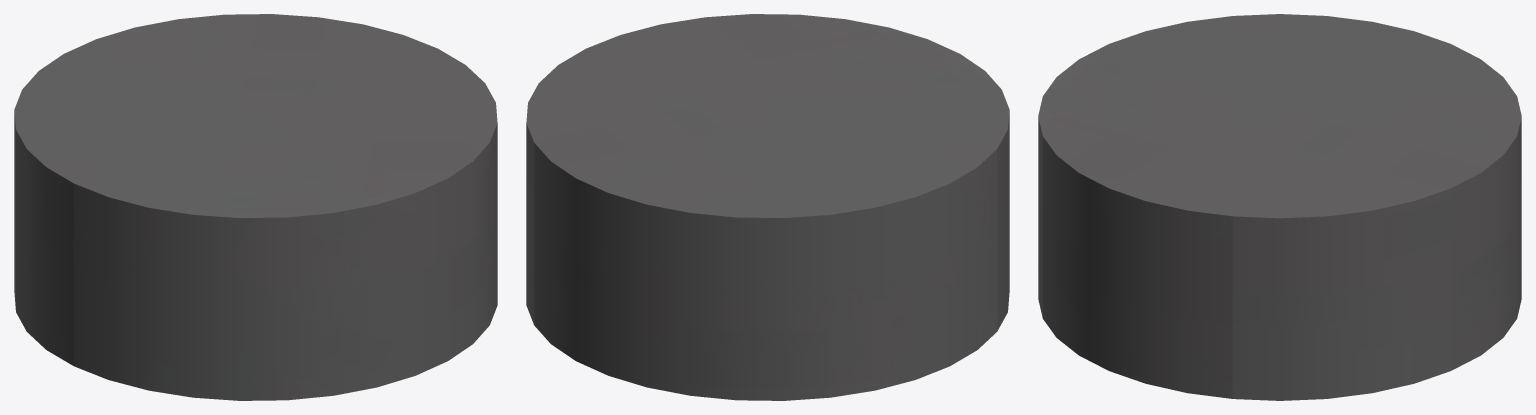
File: base__roller_axle_stub_1.glb
The picture shows the model from 3 angles, left to right: view 1: azimuth 30°, elevation 25°; view 2: azimuth 150°, elevation 25°; view 3: azimuth 270°, elevation 25°; orthographic projection.
Visible parts, largest first — view 1: world; view 2: world; view 3: world.
Part boxes in pixels (left/top/right/bottom): world: left=14, top=14, right=497, bottom=400; world: left=526, top=14, right=1009, bottom=400; world: left=1038, top=14, right=1521, bottom=400.
Bounding box in the file's own units: 0.024 × 0.01 × 0.024.
1 material, 1 textured.
